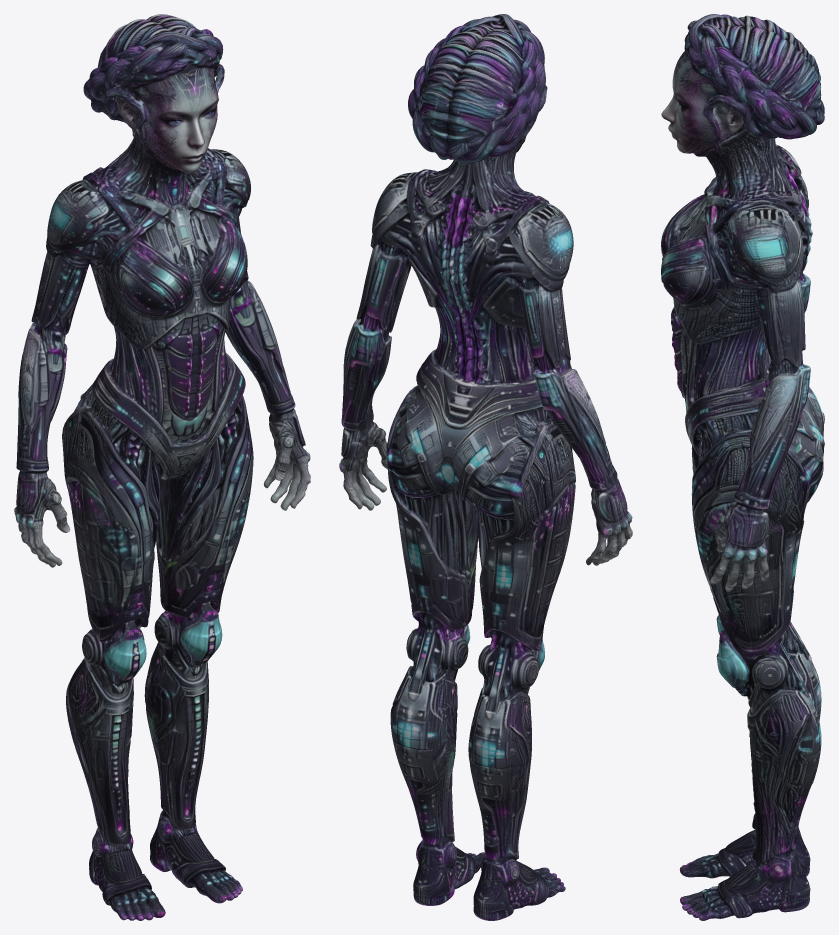
Rendered from helix.glb.
The picture shows the model from 3 angles, left to right: view 1: azimuth 30°, elevation 25°; view 2: azimuth 150°, elevation 25°; view 3: azimuth 270°, elevation 25°; orthographic projection.
Size of the model in its own units: 0.6468 by 1.9 by 0.323.
Materials: 1 (1 with a texture image).
